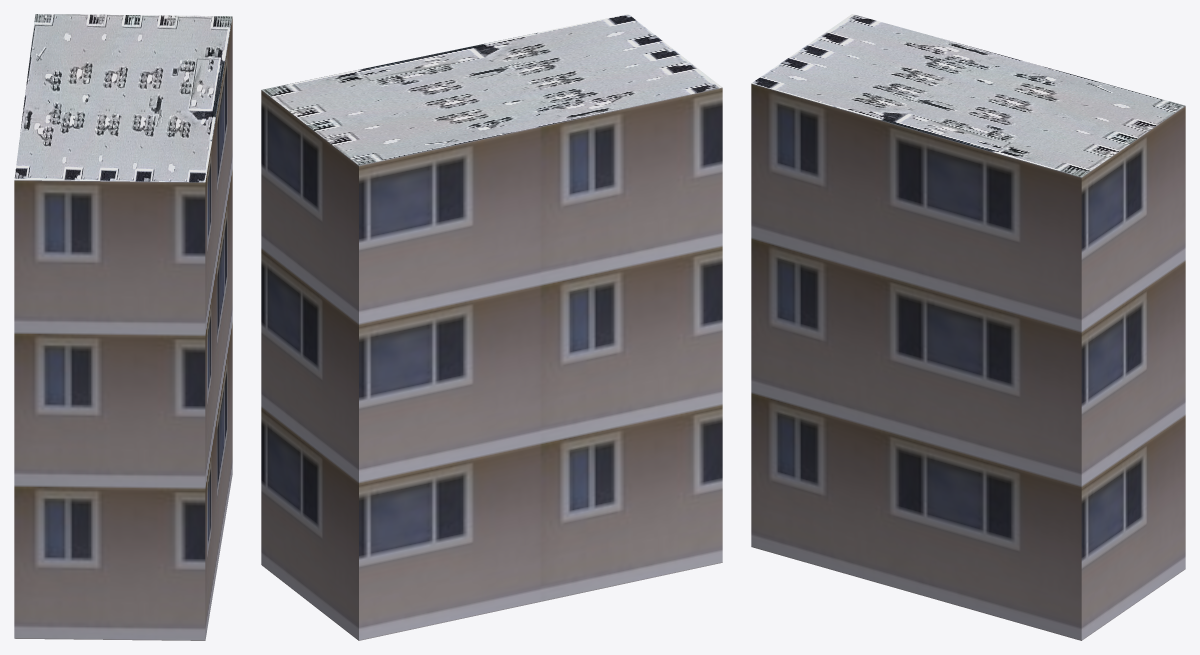
The model's file is ResTex__2722.fbx.
3 views of the same model, side by side, from view 1: azimuth 30°, elevation 25°; view 2: azimuth 150°, elevation 25°; view 3: azimuth 270°, elevation 25° (orthographic). The views are drawn at different scales.
Parts seen in each view (by area): view 1: CityEngineMaterial_21_m, CityEngineMaterial_4_m; view 2: CityEngineMaterial_21_m, CityEngineMaterial_4_m; view 3: CityEngineMaterial_21_m, CityEngineMaterial_4_m.
Boxes of the visible parts, box(x1,y1,x2,y2) form: CityEngineMaterial_21_m: box(14, 17, 232, 640); CityEngineMaterial_4_m: box(14, 14, 232, 182); CityEngineMaterial_21_m: box(261, 87, 722, 640); CityEngineMaterial_4_m: box(261, 14, 722, 165); CityEngineMaterial_21_m: box(751, 83, 1185, 640); CityEngineMaterial_4_m: box(751, 14, 1185, 177).
Bounding box in the file's own units: 6.81 × 9 × 7.65.
Materials: 2 (2 with a texture image).
